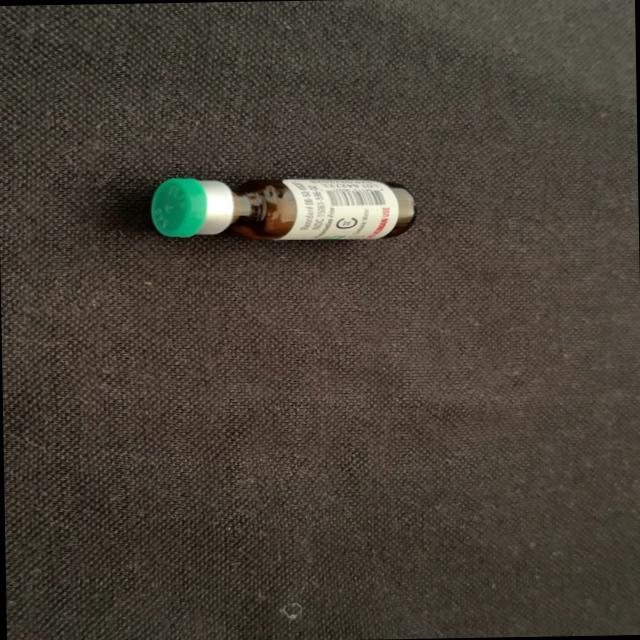midazolm: (152, 174, 412, 243)
